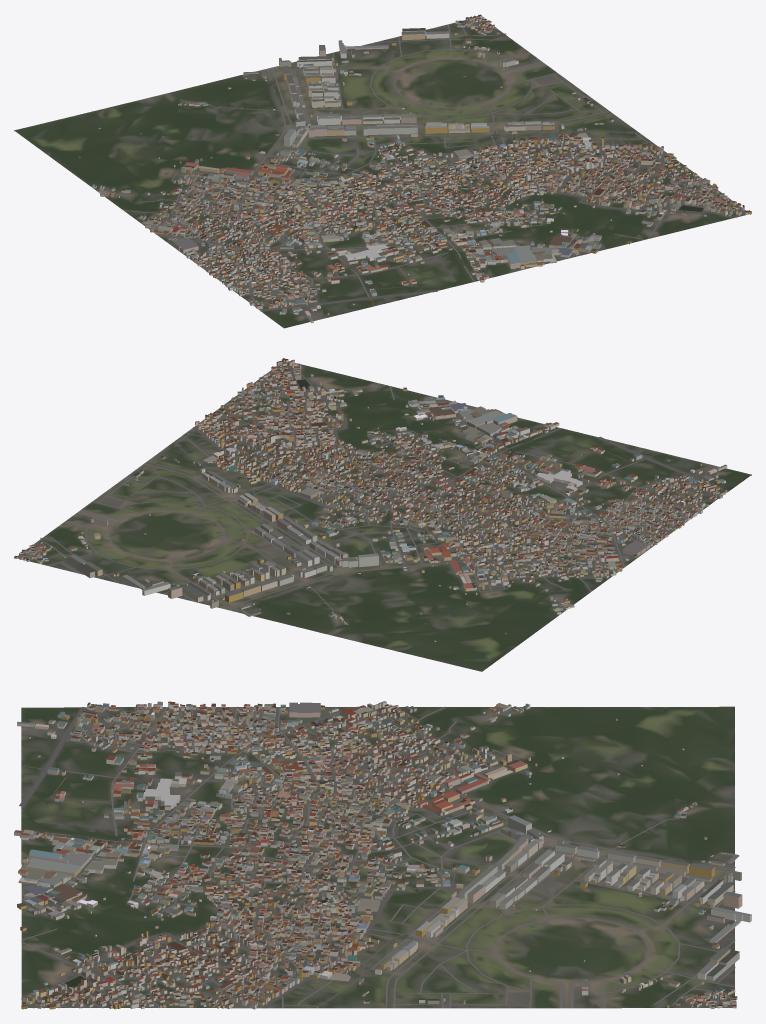
The picture shows the model from 3 angles, top to bottom: view 1: azimuth 30°, elevation 25°; view 2: azimuth 150°, elevation 25°; view 3: azimuth 270°, elevation 25°; orthographic projection. The views are drawn at different scales.
Visible parts, largest first — view 1: ground, buildings, roads; view 2: ground, buildings, roads; view 3: ground, buildings, roads.
Part boxes in pixels (left/top/right/bottom): ground: left=14, top=20, right=750, bottom=328; buildings: left=78, top=14, right=751, bottom=323; roads: left=97, top=22, right=746, bottom=311; ground: left=17, top=362, right=751, bottom=671; buildings: left=14, top=358, right=727, bottom=641; roads: left=26, top=363, right=729, bottom=613; ground: left=21, top=706, right=734, bottom=1008; buildings: left=14, top=701, right=751, bottom=1009; roads: left=19, top=706, right=735, bottom=1008.
Size of the model in its own units: 1415 by 30.81 by 1450.
